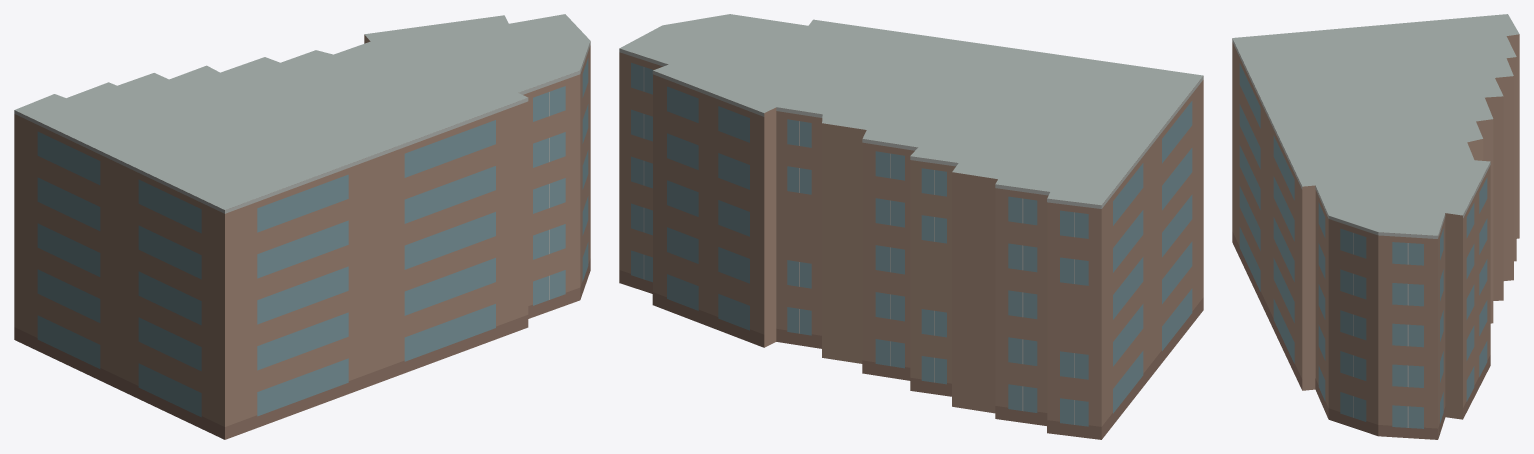
The model's file is survey-upis-33009482.glb.
3 renders of one model, left to right at view 1: azimuth 30°, elevation 25°; view 2: azimuth 150°, elevation 25°; view 3: azimuth 270°, elevation 25°, orthographic. The views are drawn at different scales.
Visible parts, largest first — view 1: survey-upis-33009482.tmp; view 2: survey-upis-33009482.tmp; view 3: survey-upis-33009482.tmp.
Boxes of the visible parts, box(x1,y1,x2,y2) form: survey-upis-33009482.tmp: box(14, 14, 590, 439); survey-upis-33009482.tmp: box(619, 14, 1203, 439); survey-upis-33009482.tmp: box(1232, 14, 1519, 439).
Bounding box in the file's own units: 34.85 × 14.95 × 19.09.
